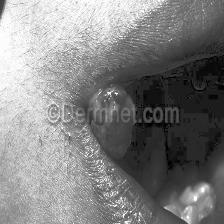Benign Marking or Mole: (75, 77, 135, 150)
